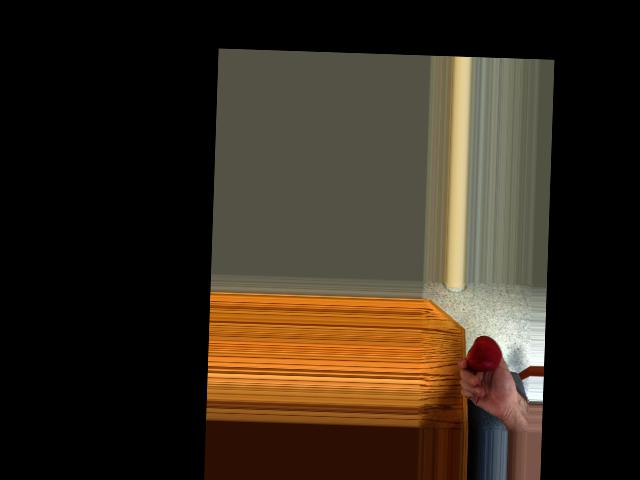apple: (464, 333, 503, 375)
